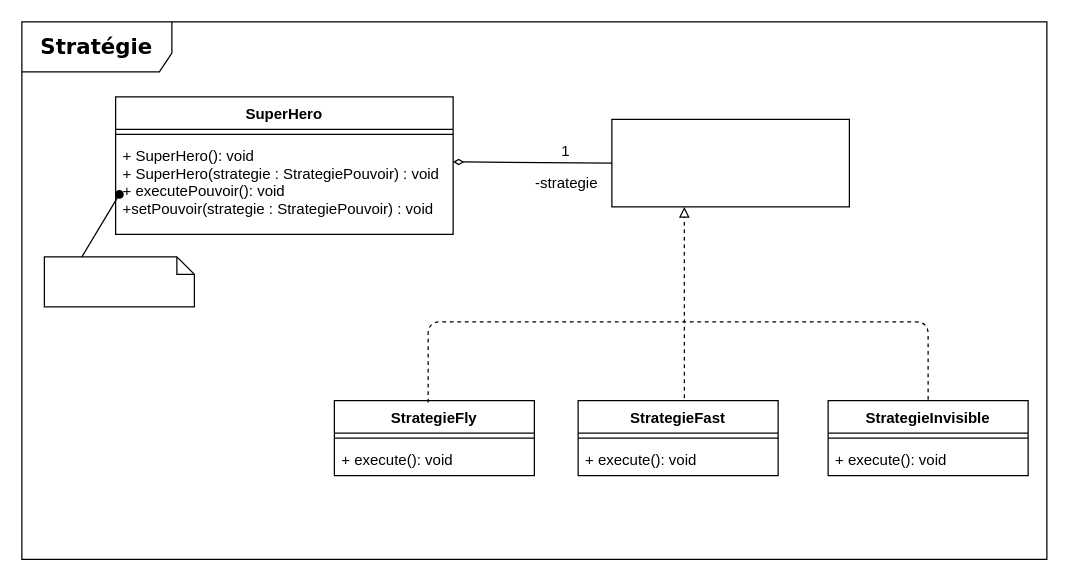
This 1069x581 diagram has some shape labels left out. Each missing label, with the centre of its shape:
<<Interface>> StrategiePouvoir + execute(): void: (730,162)
return strategie.execute(): (118,281)
